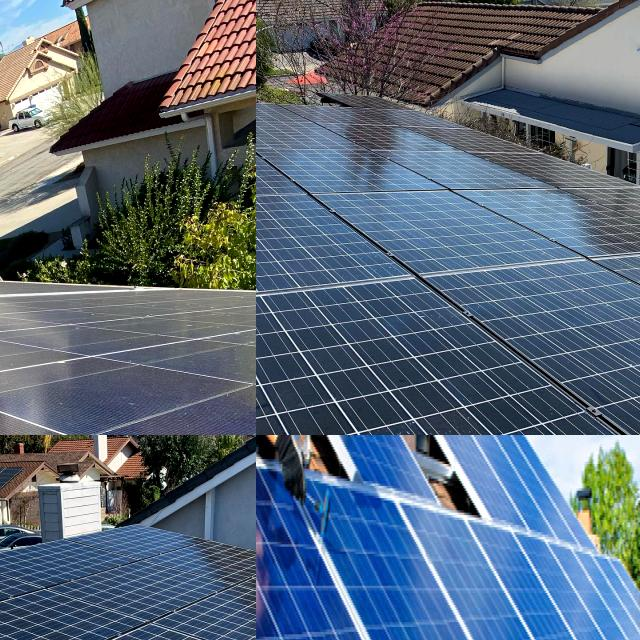crack: (256, 456, 640, 640), (413, 435, 614, 563), (309, 435, 439, 501)
dust: (0, 383, 175, 435)
